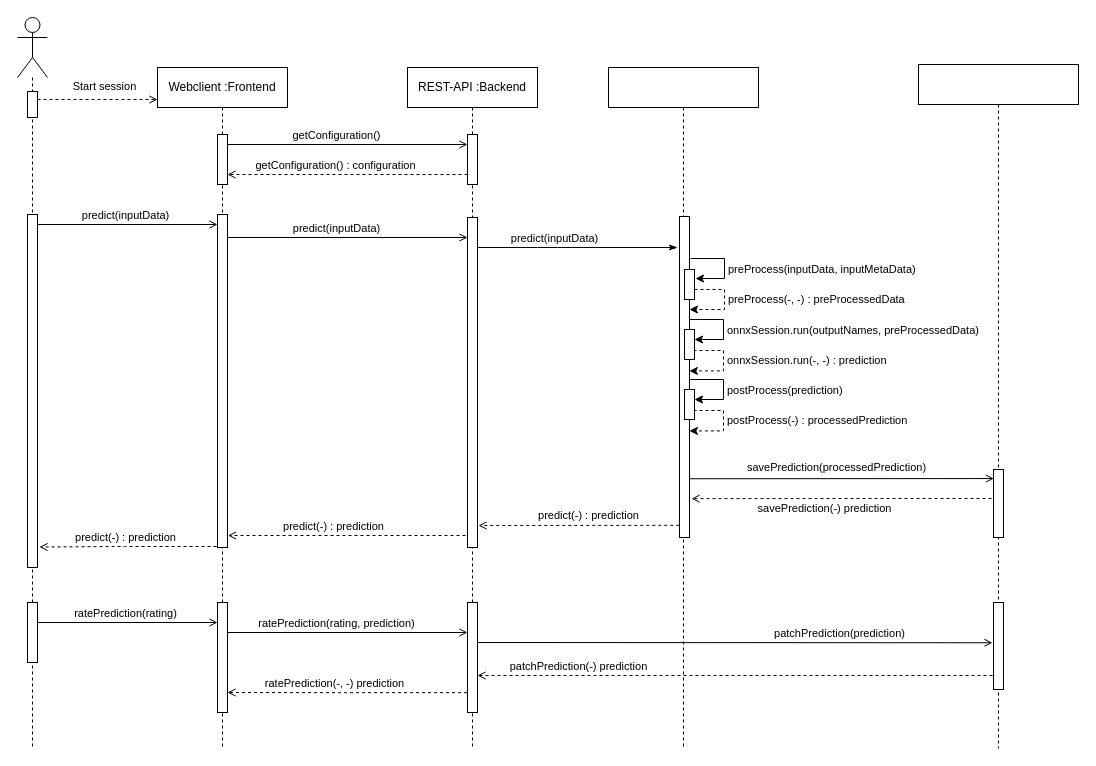
The diagram is 1096 pixels wide and 766 high, and some of its shapes have lost their labels. The box of each missing label's shape, as (x1, y1, x2, y2) in pixels:
AbstractModel :Backend: (608, 66, 758, 748)
Database :MongoDB/SQLite: (918, 64, 1078, 748)
